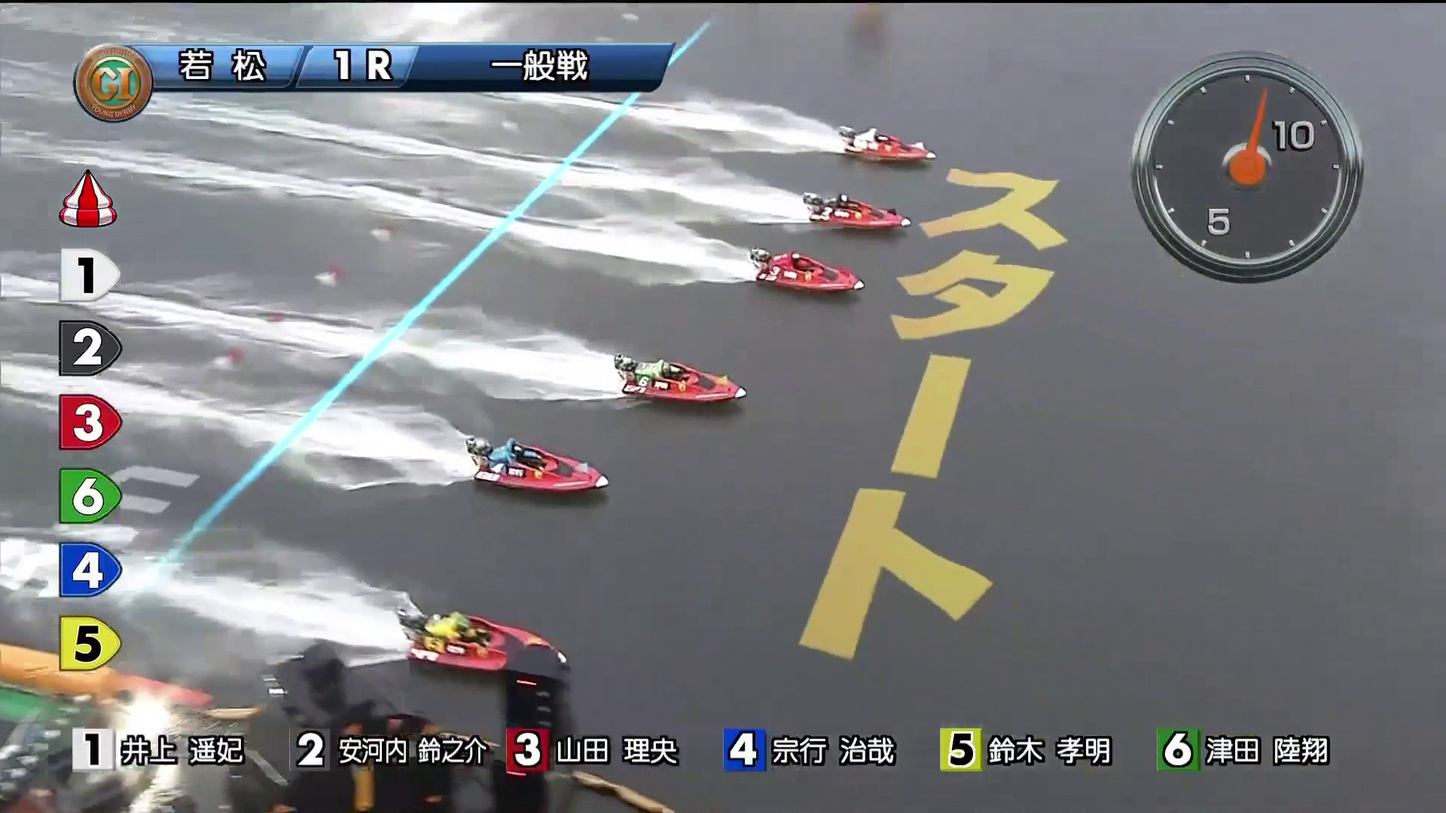１号艇: (809, 142, 889, 189)
２号艇: (837, 206, 899, 244)
３号艇: (786, 257, 841, 298)
４号艇: (645, 362, 711, 405)
５号艇: (507, 458, 575, 495)
６号艇: (454, 631, 519, 678)
